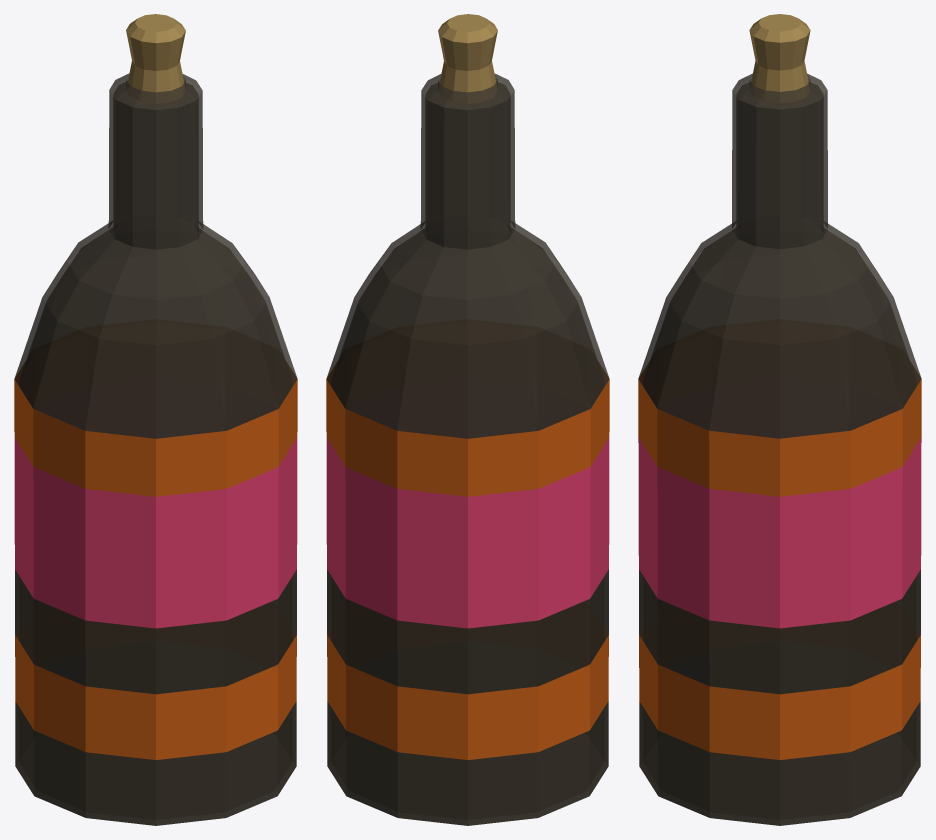
File: Wine Bottle 3.fbx
3 renders of one model, left to right at view 1: azimuth 30°, elevation 25°; view 2: azimuth 150°, elevation 25°; view 3: azimuth 270°, elevation 25°, orthographic.
Parts seen in each view (by area): view 1: Wine Bottle 3, Cork; view 2: Wine Bottle 3, Cork; view 3: Wine Bottle 3, Cork.
Part boxes in pixels (x1,y1,x2,y2): Wine Bottle 3: (14, 73, 297, 825); Cork: (126, 14, 185, 106); Wine Bottle 3: (326, 73, 609, 825); Cork: (438, 14, 497, 106); Wine Bottle 3: (638, 73, 921, 825); Cork: (749, 14, 810, 106).
Size of the model in its own units: 161 by 467 by 161.
